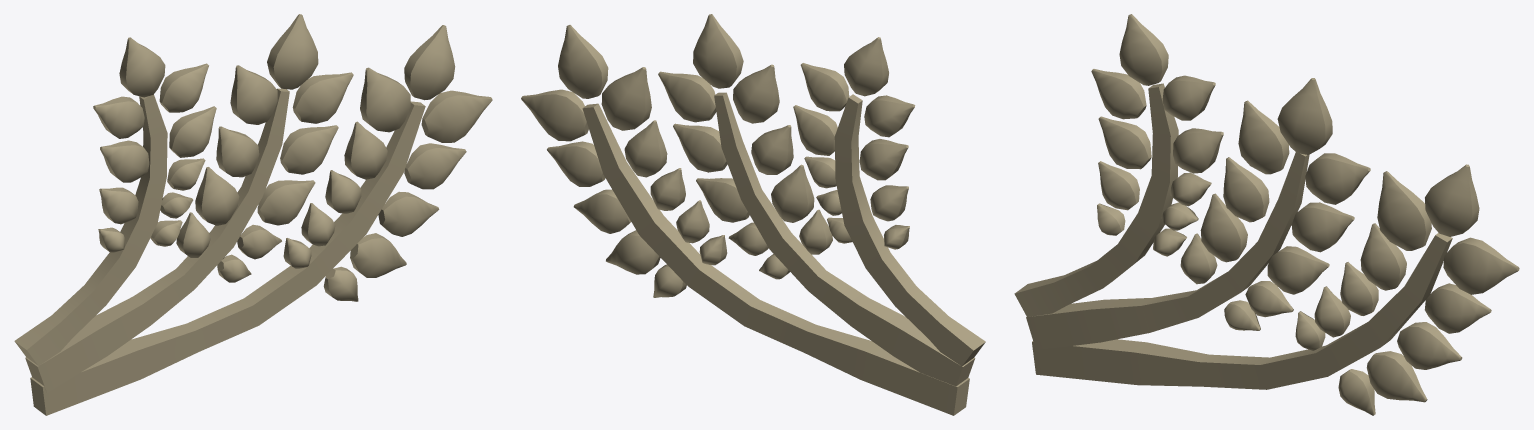
Rendered from Modular01_SignFarm.fbx.
3 renders of one model, left to right at view 1: azimuth 30°, elevation 25°; view 2: azimuth 150°, elevation 25°; view 3: azimuth 330°, elevation 25°, orthographic. The views are drawn at different scales.
Parts seen in each view (by area): view 1: FarmSign; view 2: FarmSign; view 3: FarmSign.
Part boxes in pixels (x1=…): FarmSign: x1=14, y1=14, x2=492, y2=415; FarmSign: x1=521, y1=14, x2=985, y2=415; FarmSign: x1=1014, y1=14, x2=1519, y2=415.
Size of the model in its own units: 169 by 123 by 12.51.
